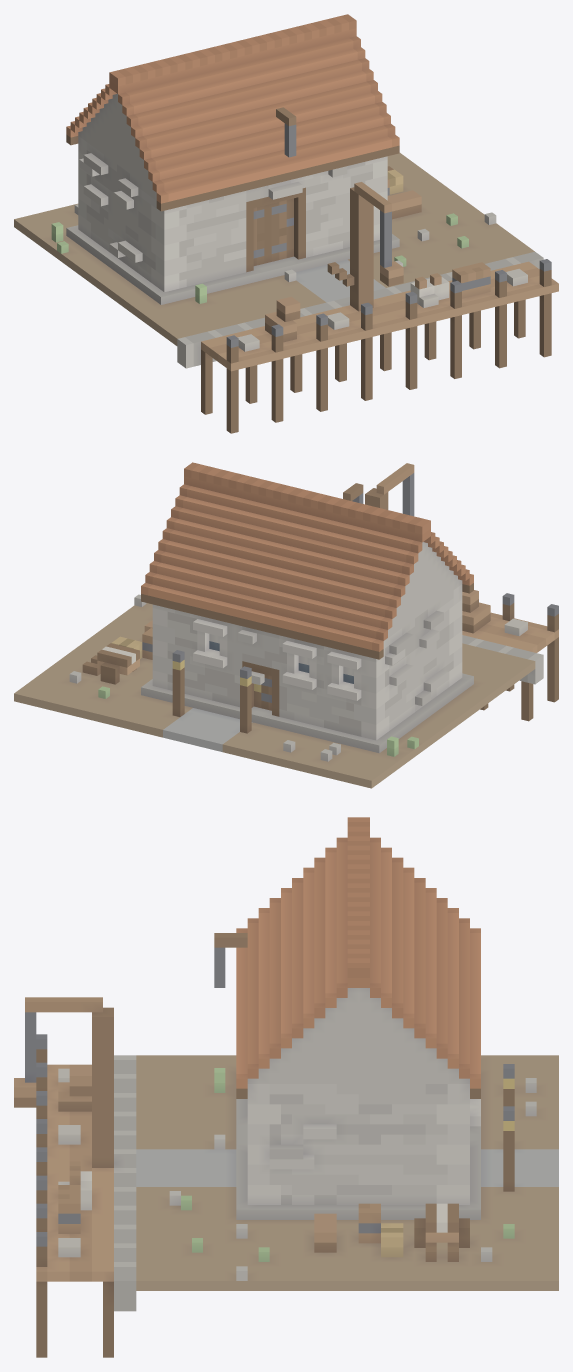
File: trading_post.l3.glb
The picture shows the model from 3 angles, top to bottom: view 1: azimuth 30°, elevation 25°; view 2: azimuth 150°, elevation 25°; view 3: azimuth 270°, elevation 25°; orthographic projection. The views are drawn at different scales.
Visible parts, largest first — view 1: trading_post; view 2: trading_post; view 3: trading_post.
Part boxes in pixels (x1,y1,x2,y2): trading_post: [14, 14, 558, 433]; trading_post: [14, 462, 558, 788]; trading_post: [14, 817, 558, 1357].
Size of the model in its own units: 6 by 4.25 by 6.12.
